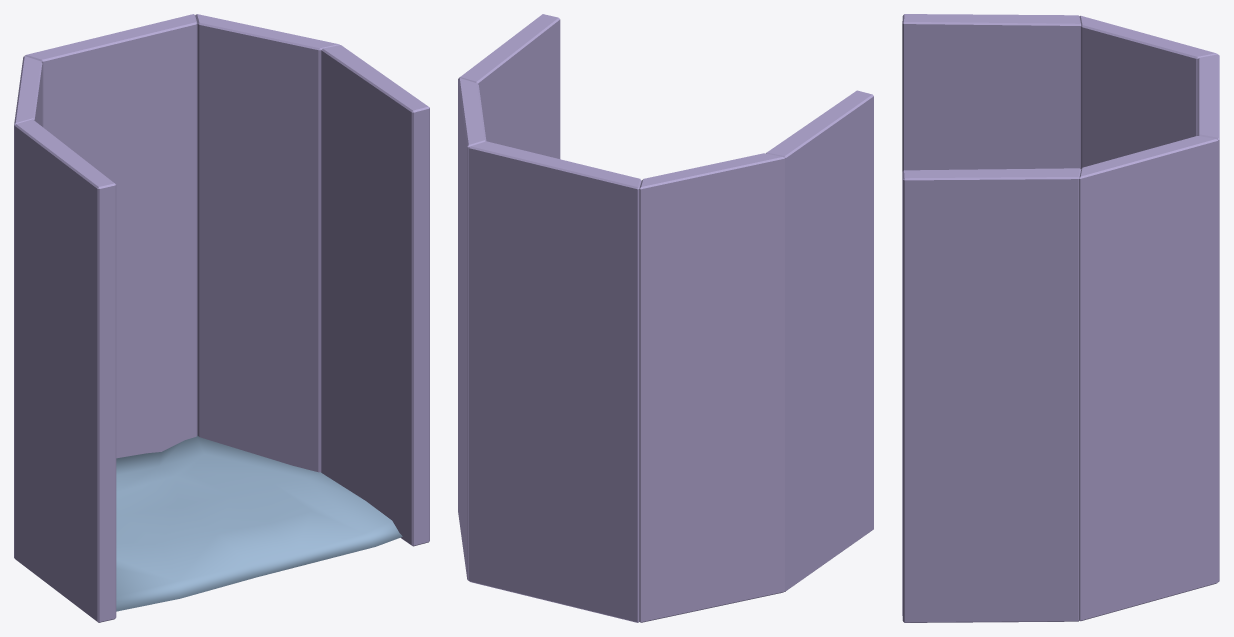
Rendered from statuewalls.fbx.
The picture shows the model from 3 angles, left to right: view 1: azimuth 30°, elevation 25°; view 2: azimuth 150°, elevation 25°; view 3: azimuth 270°, elevation 25°; orthographic projection. The views are drawn at different scales.
Visible parts, largest first — view 1: back wall, angle wall, back wall.001, sand; view 2: back wall.001, angle wall, back wall; view 3: back wall, angle wall, back wall.001.
Boxes of the visible parts, left/top/right/bottom form: back wall: left=15, top=45, right=429, bottom=622; angle wall: left=14, top=14, right=339, bottom=558; back wall.001: left=25, top=14, right=197, bottom=458; sand: left=116, top=435, right=402, bottom=611; back wall.001: left=469, top=141, right=641, bottom=622; angle wall: left=458, top=78, right=784, bottom=622; back wall: left=459, top=14, right=873, bottom=591; back wall: left=902, top=14, right=1081, bottom=622; angle wall: left=1079, top=15, right=1218, bottom=621; back wall.001: left=1197, top=54, right=1219, bottom=581.
Bounding box in the file's own units: 23926 × 29969 × 19376.
